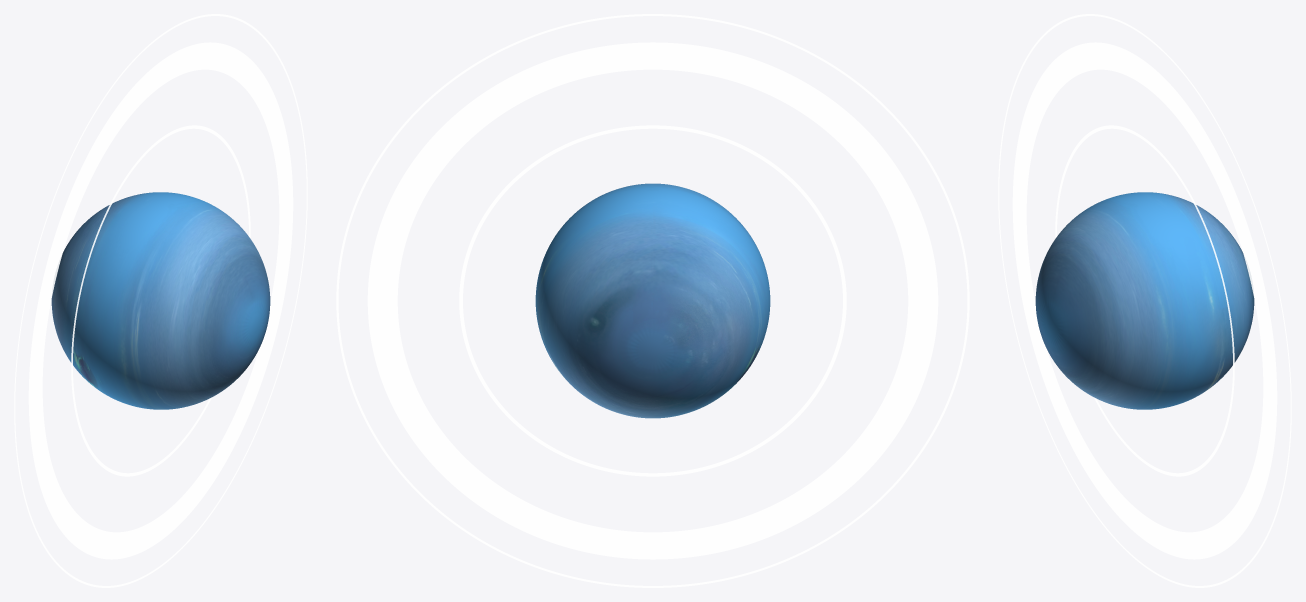
The model's file is NeptuneModel.glb.
3 views of the same model, side by side, from view 1: azimuth 30°, elevation 25°; view 2: azimuth 150°, elevation 25°; view 3: azimuth 270°, elevation 25° (orthographic). The views are drawn at different scales.
Visible parts, largest first — view 1: Node2, Node1; view 2: Node1, Node2; view 3: Node2, Node1.
Boxes of the visible parts, x1,y1,x2,y2 form: Node2: [51, 192, 270, 409]; Node1: [14, 14, 307, 587]; Node1: [336, 14, 969, 587]; Node2: [535, 183, 770, 418]; Node2: [1035, 192, 1254, 409]; Node1: [998, 14, 1291, 587].
Bounding box in the file's own units: 849 × 980 × 490.
Materials: 2 (1 with a texture image).
